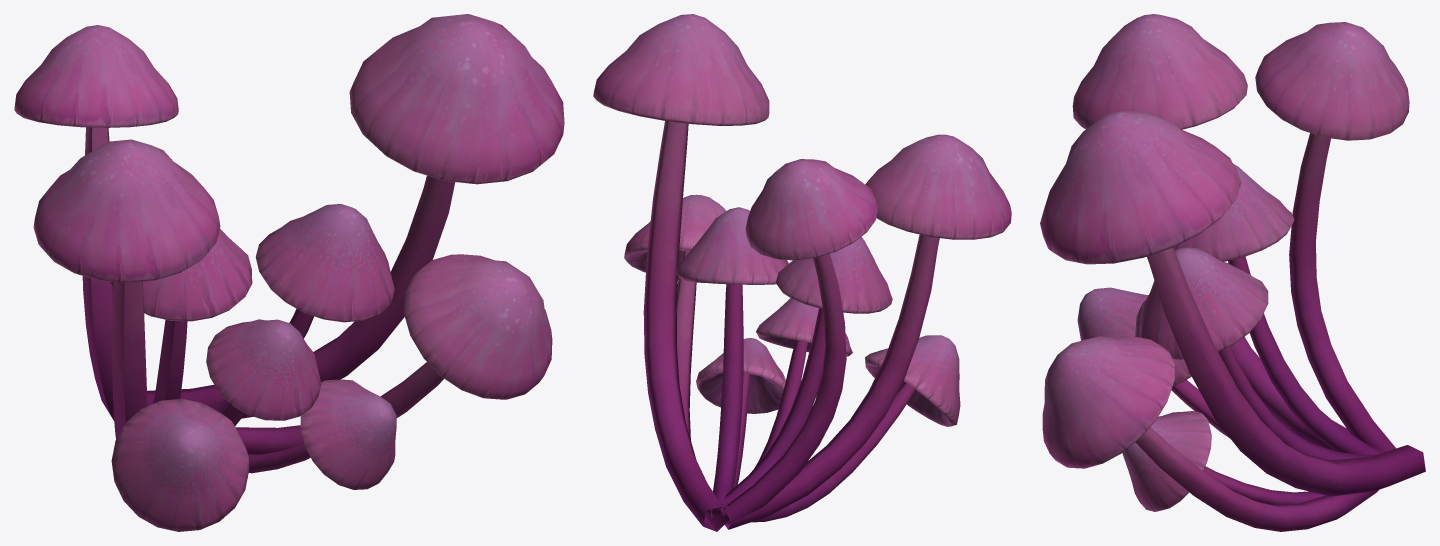
The model's file is SM_Mush_4.fbx.
3 views of the same model, side by side, from view 1: azimuth 30°, elevation 25°; view 2: azimuth 150°, elevation 25°; view 3: azimuth 270°, elevation 25° (orthographic). The views are drawn at different scales.
Visible parts, largest first — view 1: SM_Mush_4; view 2: SM_Mush_4; view 3: SM_Mush_4.
Boxes of the visible parts, box(x1,y1,x2,y2) form: SM_Mush_4: box(14, 14, 564, 531); SM_Mush_4: box(593, 14, 1011, 531); SM_Mush_4: box(1040, 14, 1425, 531).
Bounding box in the file's own units: 83.65 × 78.64 × 59.58.
